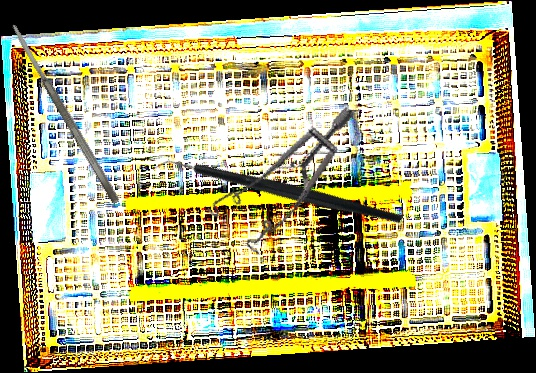Chopper: (149, 83, 405, 305)
Spatula Surgical: (8, 21, 122, 206)
Speculum: (196, 75, 357, 272)
